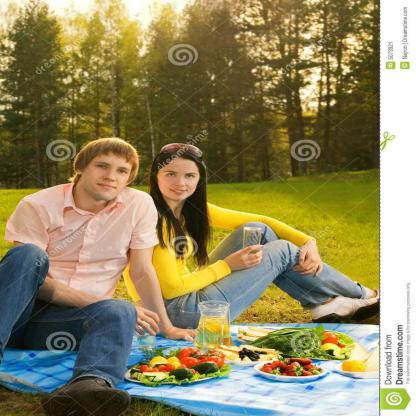face: (86, 148, 133, 203), (160, 162, 202, 202)
